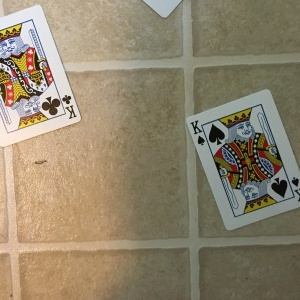card: (183, 88, 299, 231)
